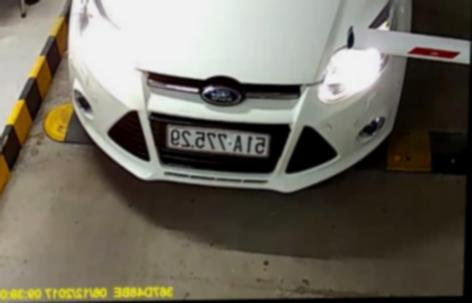License_Plate: (161, 128, 276, 159)
